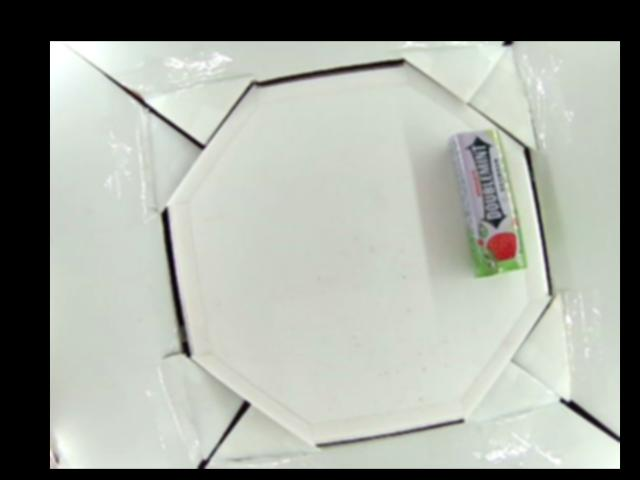Bottle: (447, 128, 529, 279)
